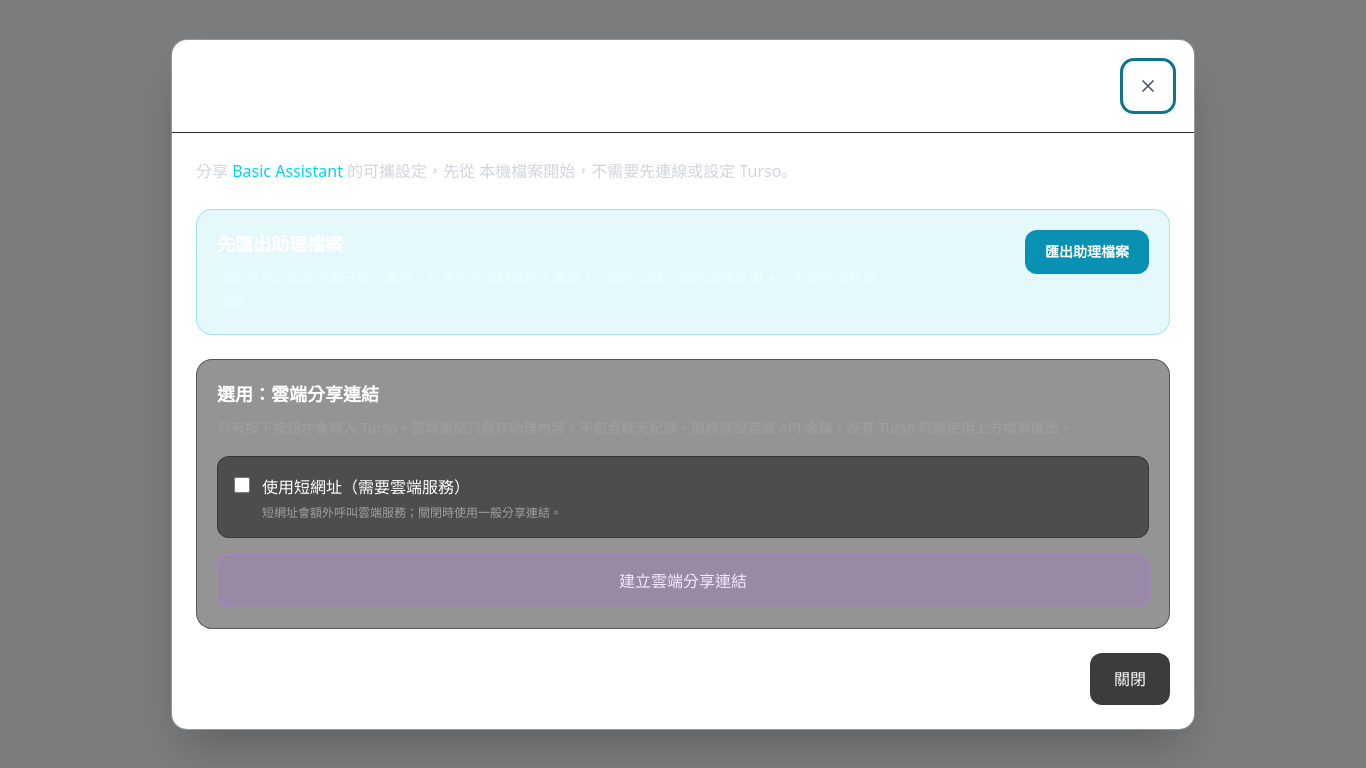
Scenario: ShareModal › exports a local assistant package without requiring Turso
What coordinates should you click on to do the following:
click the button "匯出助理檔案"
I would click on:
 (1087, 252)
Its box is [1025, 230, 1149, 274].
(page scrolled)
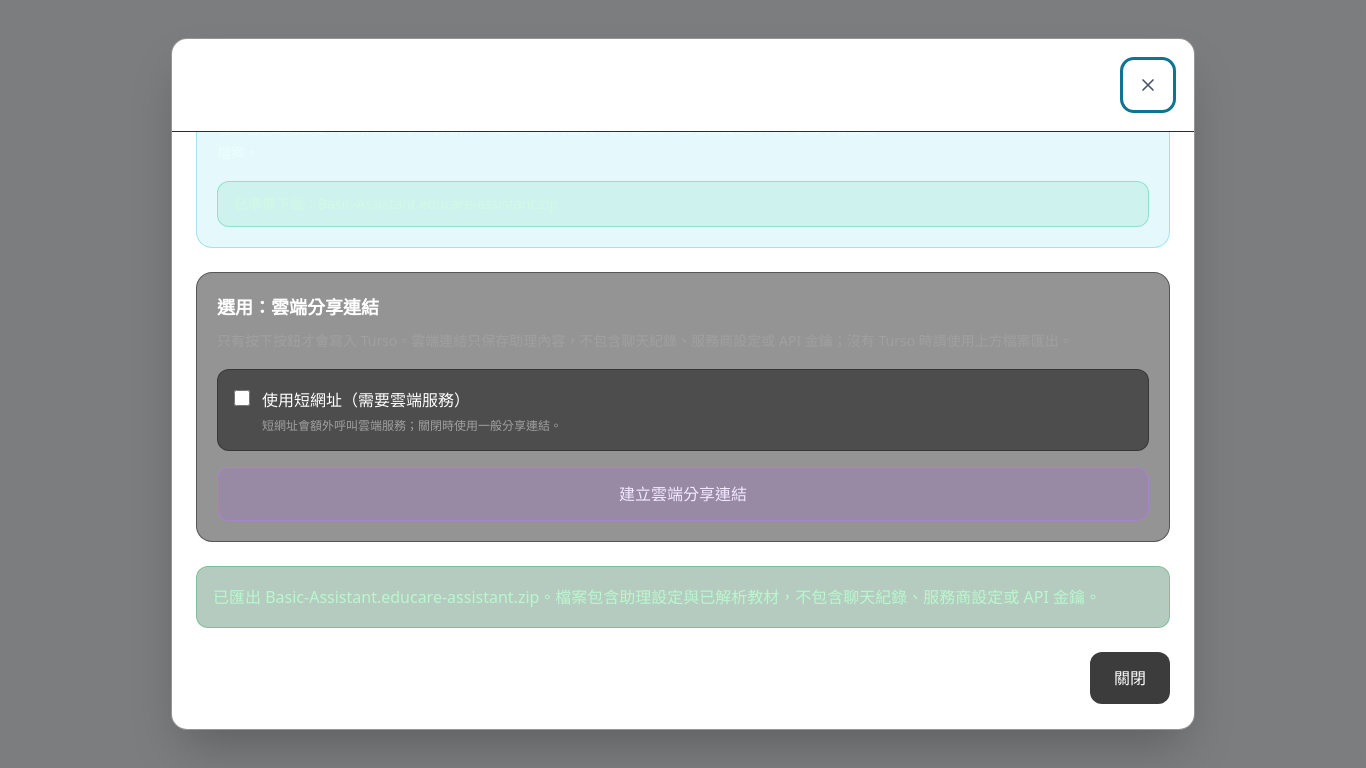
Result: the text "已準備下載：Basic-Assistant.educare-assistant.zip" is shown at [217, 181, 1149, 227]
Result: the text "已匯出 Basic-Assistant" is shown at [213, 586, 1101, 608]
